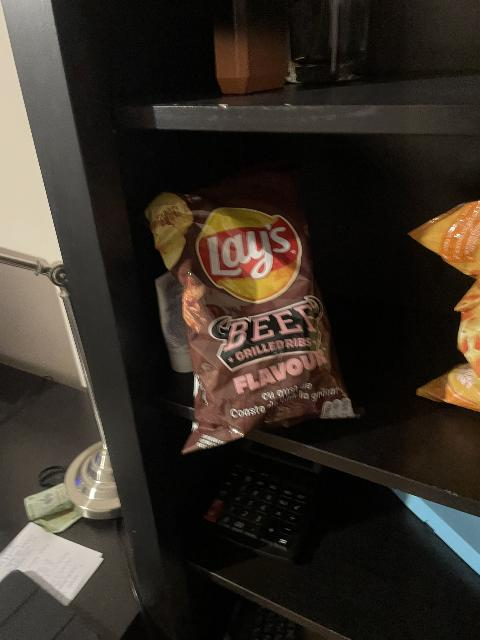Chio Cascaval 125g: (404, 199, 480, 413)
Lays Beef Grilled Ribs 125g: (153, 178, 368, 447)
